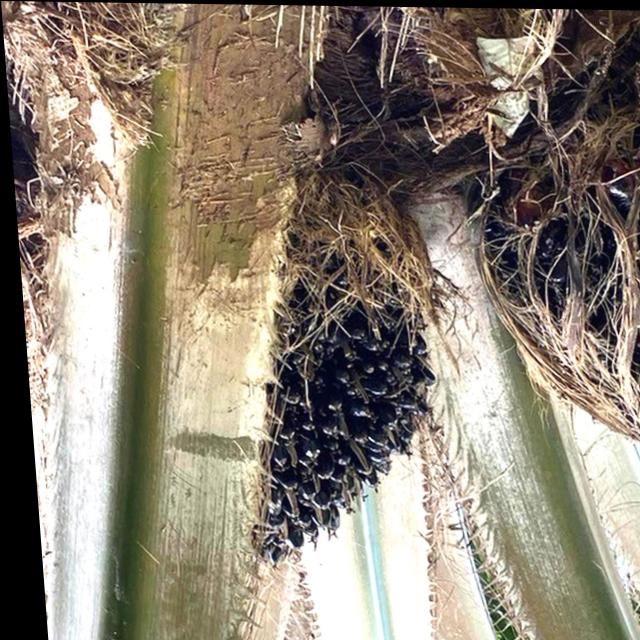unripe: (202, 160, 457, 579)
